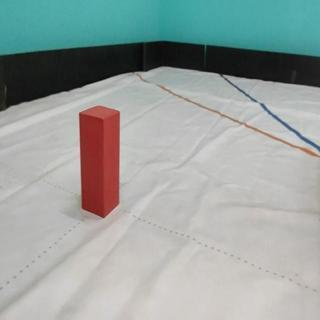redbox: (78, 104, 120, 218)
